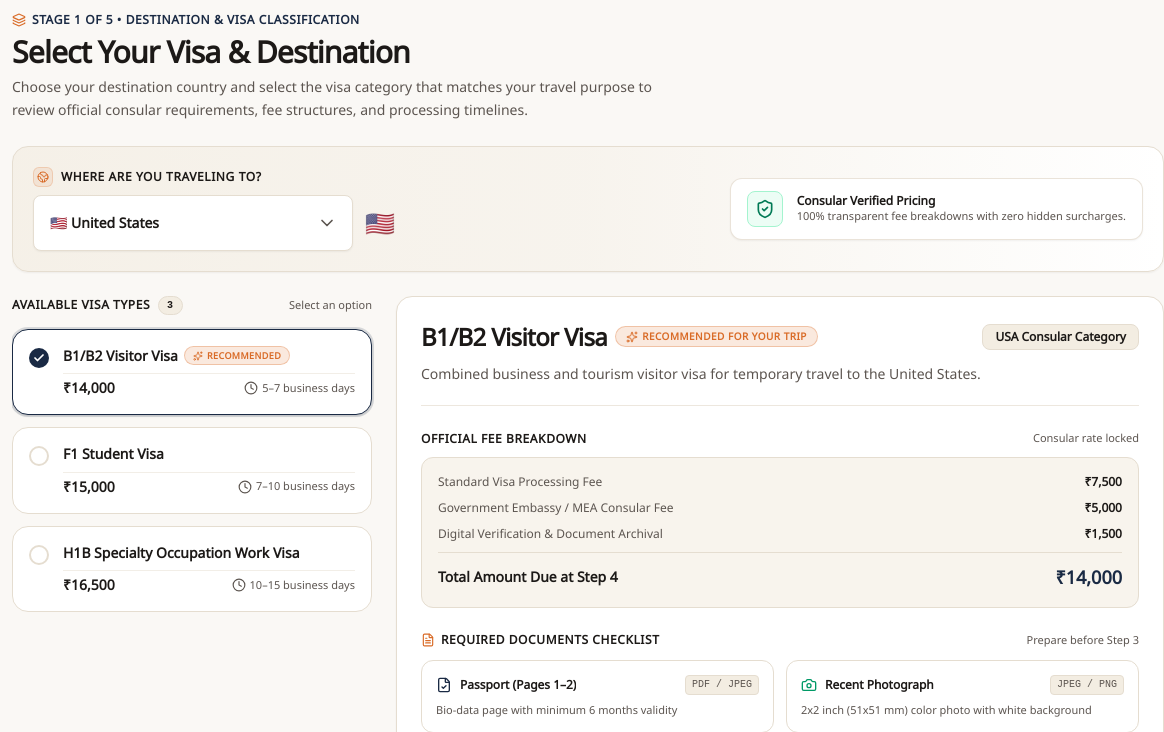
Test case: VisaSelectionScreen Component › updates visa list and open details when destination changes
// Change destination to UK
Select "🇬🇧 United Kingdom" in the dropdown labelled "Where are you traveling to?" at (193, 222), box [33, 194, 353, 250]
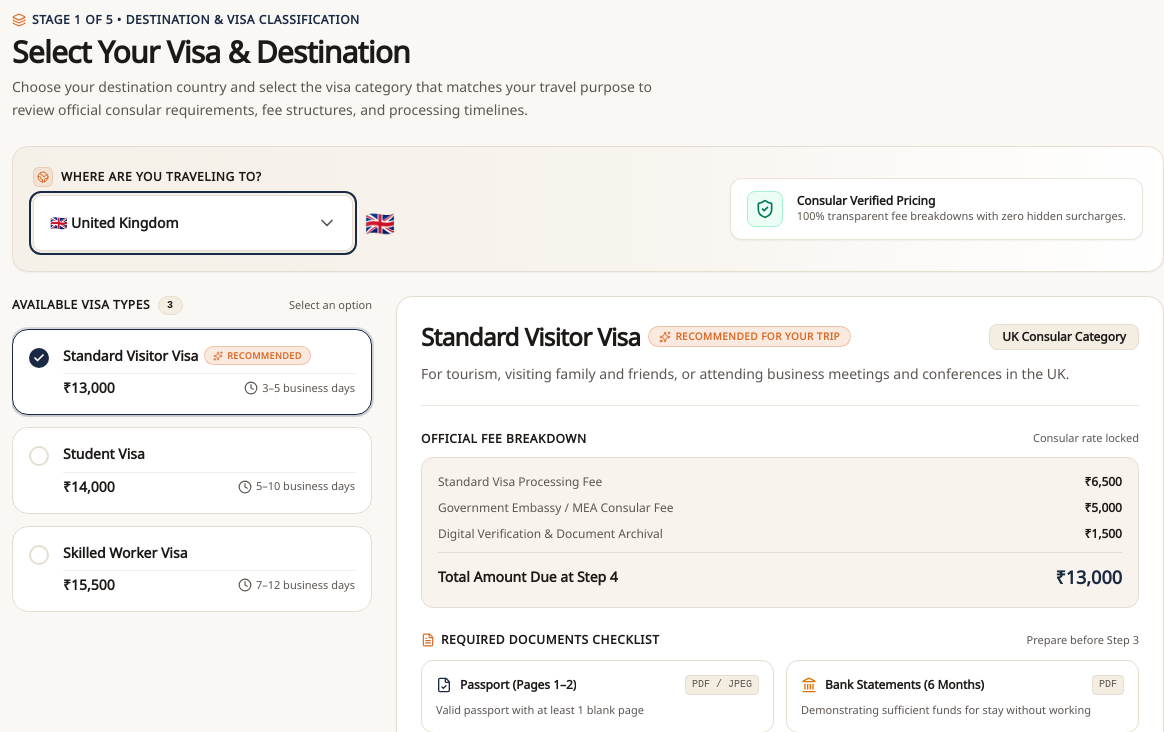
Result: the radio button labelled "Standard Visitor Visa Recommended ₹13,000 3–5 business days" is shown at [12, 329, 372, 415]
